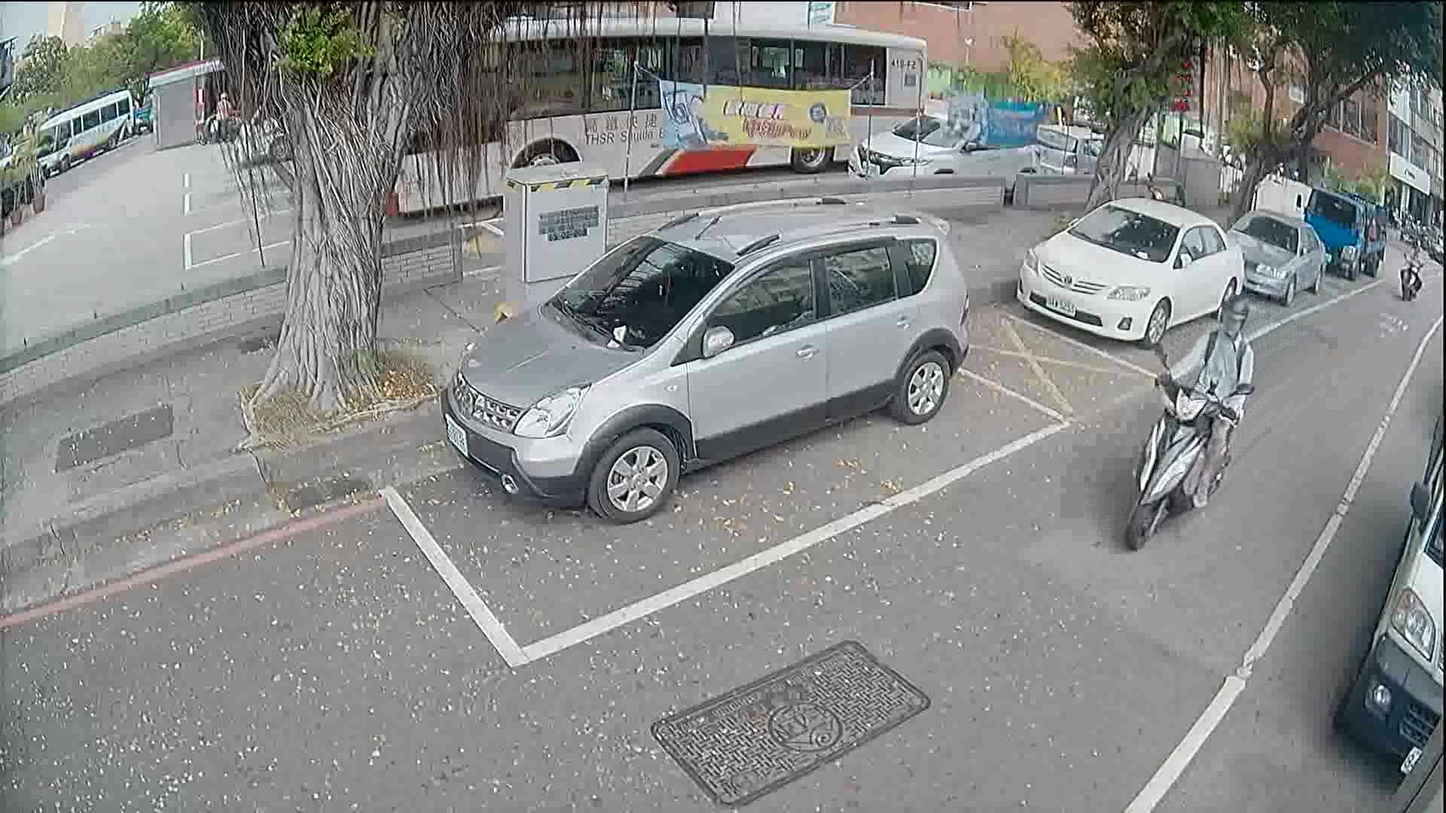person: (1149, 290, 1254, 511), (208, 85, 232, 143), (1401, 240, 1423, 282)
